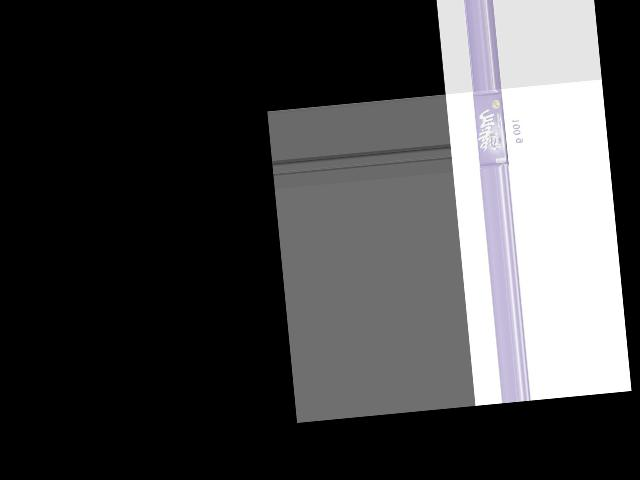chocolate: (472, 90, 514, 170)
